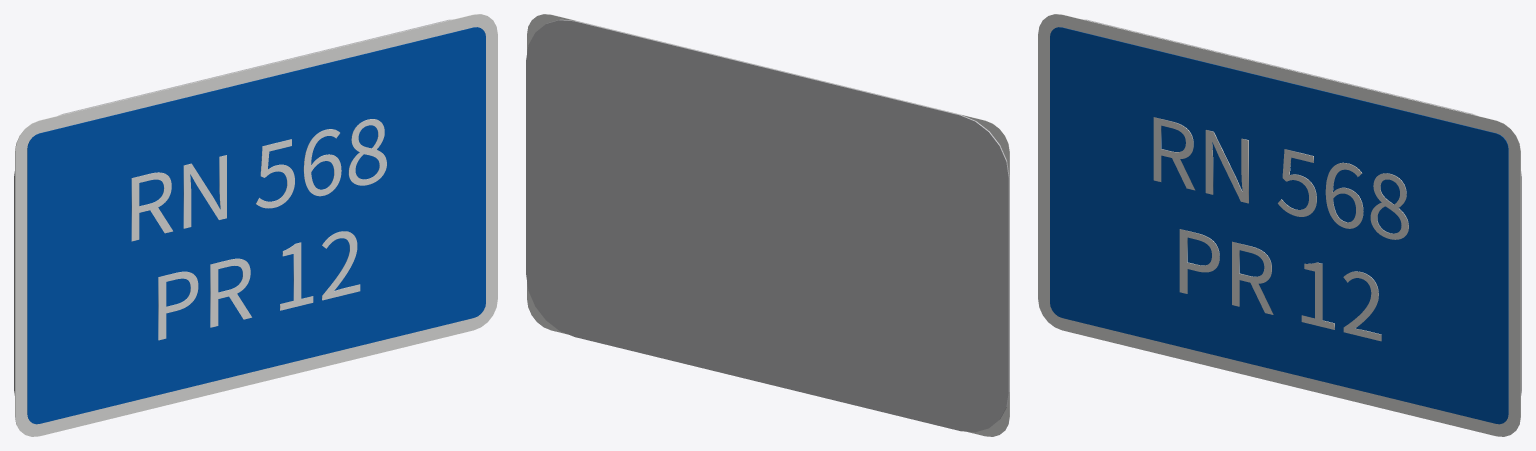
3 views of the same model, side by side, from view 1: azimuth 30°, elevation 25°; view 2: azimuth 150°, elevation 25°; view 3: azimuth 330°, elevation 25° (orthographic).
Visible parts, largest first — view 1: E57c_fond01, E57c_cadre00, E57c_txt02, E57c_txt03, E57c_dos; view 2: E57c_dos, E57c_cadre00; view 3: E57c_fond01, E57c_cadre00, E57c_txt02, E57c_txt03, E57c_dos.
Boxes of the visible parts, x1,y1,x2,y2 form: E57c_fond01: (27, 27, 485, 424); E57c_cadre00: (15, 14, 497, 436); E57c_txt02: (131, 119, 386, 241); E57c_txt03: (158, 231, 360, 340); E57c_dos: (14, 19, 452, 395); E57c_dos: (526, 19, 1009, 432); E57c_cadre00: (527, 14, 1009, 436); E57c_fond01: (1050, 27, 1508, 424); E57c_cadre00: (1038, 14, 1520, 436); E57c_txt02: (1153, 117, 1408, 239); E57c_txt03: (1179, 229, 1381, 341); E57c_dos: (1083, 19, 1521, 395).
Bounding box in the file's own units: 0.4 × 0.25 × 0.0029.
